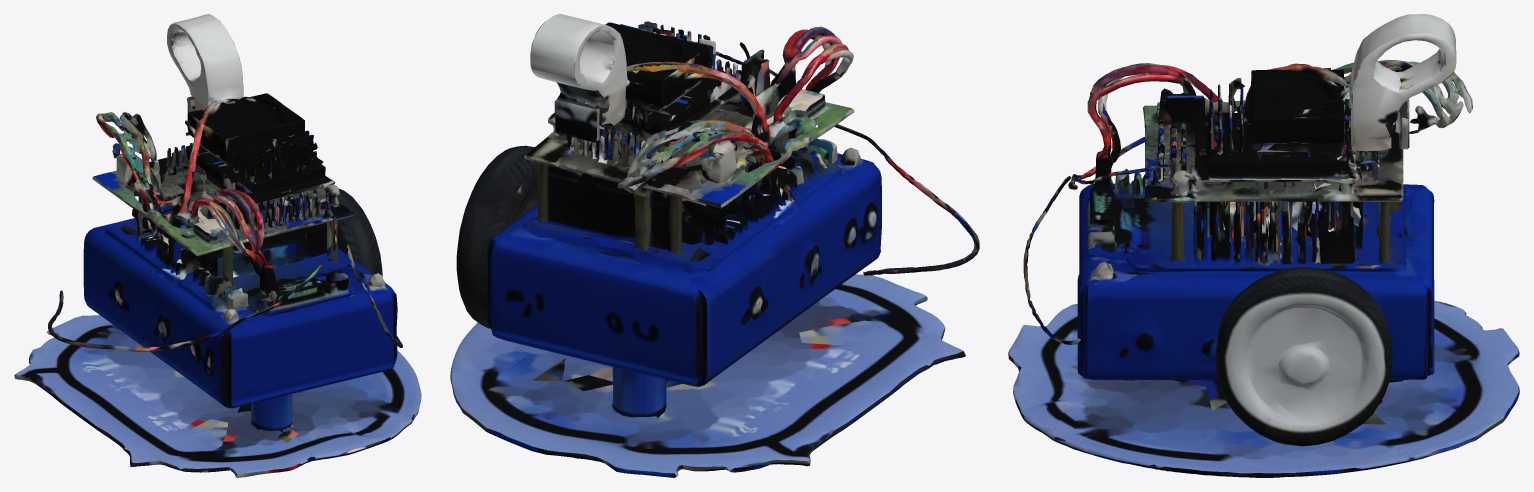
3 renders of one model, left to right at view 1: azimuth 30°, elevation 25°; view 2: azimuth 150°, elevation 25°; view 3: azimuth 270°, elevation 25°, orthographic. The views are drawn at different scales.
Parts seen in each view (by area): view 1: tmpoxykr9_1.ply; view 2: tmpoxykr9_1.ply; view 3: tmpoxykr9_1.ply.
Part boxes in pixels (x1,y1,x2,y2): tmpoxykr9_1.ply: [14, 14, 421, 477]; tmpoxykr9_1.ply: [450, 14, 979, 477]; tmpoxykr9_1.ply: [1008, 14, 1519, 477].
Bounding box in the file's own units: 1.98 × 1.63 × 1.99.
Materials: 1 (1 with a texture image).
